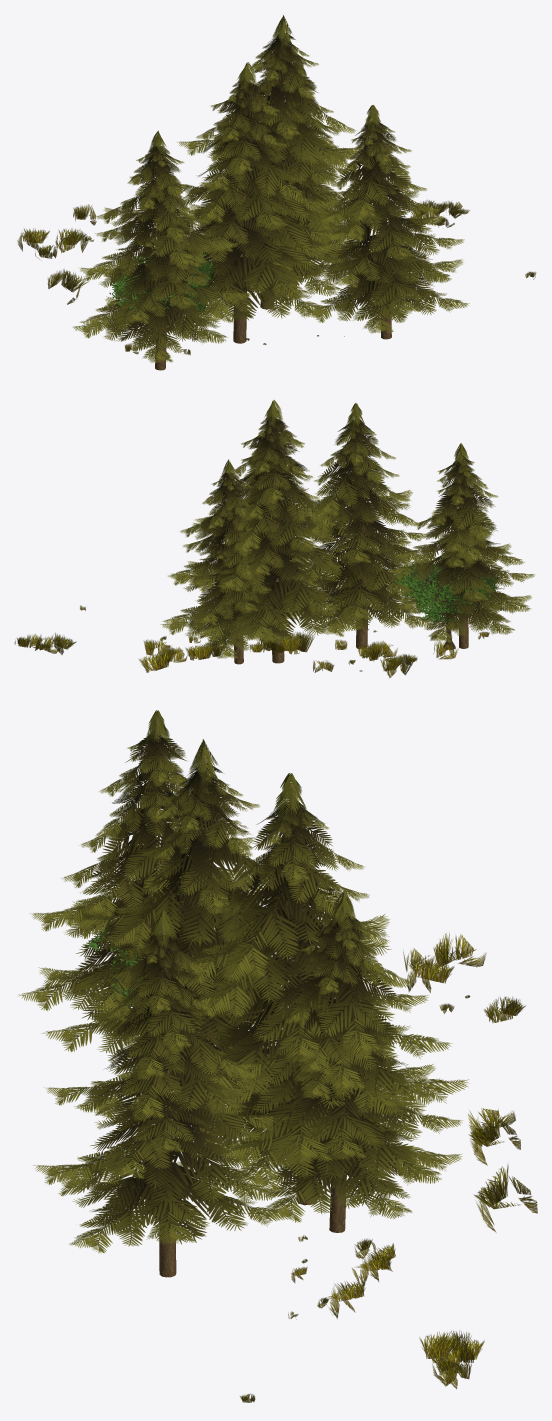
3 views of the same model, one above another, from view 1: azimuth 30°, elevation 25°; view 2: azimuth 150°, elevation 25°; view 3: azimuth 270°, elevation 25° (orthographic). The views are drawn at different scales.
Parts seen in each view (by area): view 1: Low Poly Stylized 2D Grass.069; view 2: Low Poly Stylized 2D Grass.069; view 3: Low Poly Stylized 2D Grass.069.
Boxes of the visible parts, box(x1,y1,x2,y2) form: Low Poly Stylized 2D Grass.069: box(17, 15, 536, 370); Low Poly Stylized 2D Grass.069: box(14, 400, 534, 678); Low Poly Stylized 2D Grass.069: box(17, 710, 537, 1402).
Size of the model in its own units: 25.59 by 15.46 by 15.79.
Materials: 5 (4 with a texture image).
